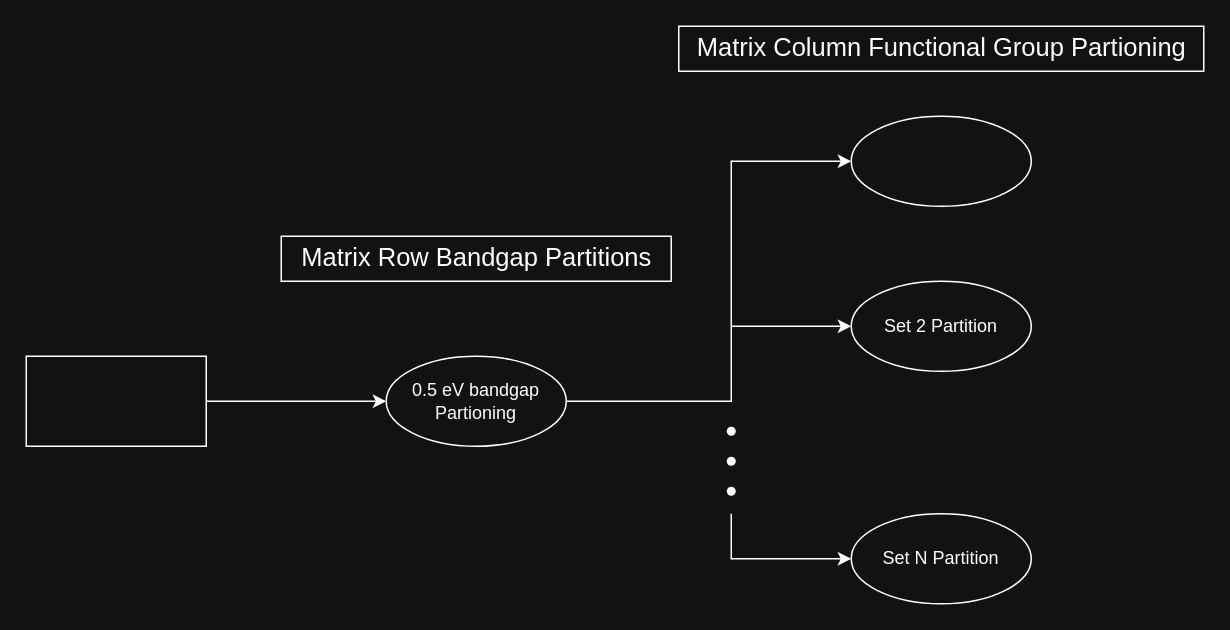
Image size: 1230x630. Some labels were removed from this diagram. The centre of each missing label's shape, as x and y in pixels:
Bandgap Functional Group Concatenated Dataset: pixel 115 400
Set 1 Partition: pixel 940 160
